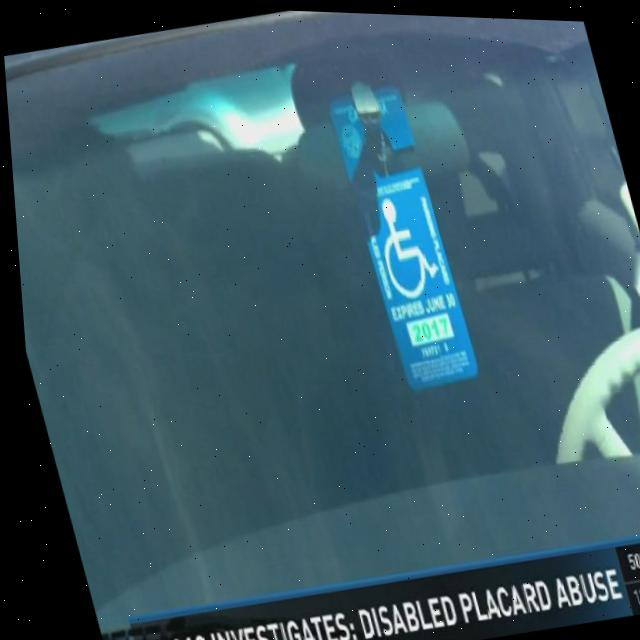symbol_of_access: (364, 186, 441, 301)
